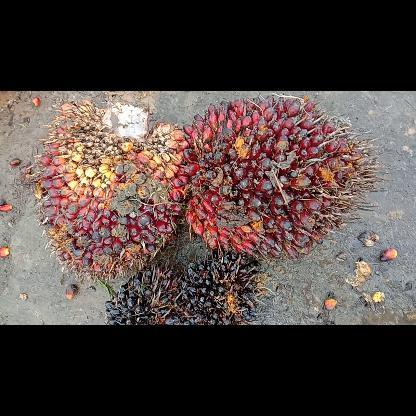TBS abnormal: (181, 248, 269, 324), (104, 262, 186, 324)
TBS masak: (180, 93, 388, 262), (28, 96, 192, 282)
